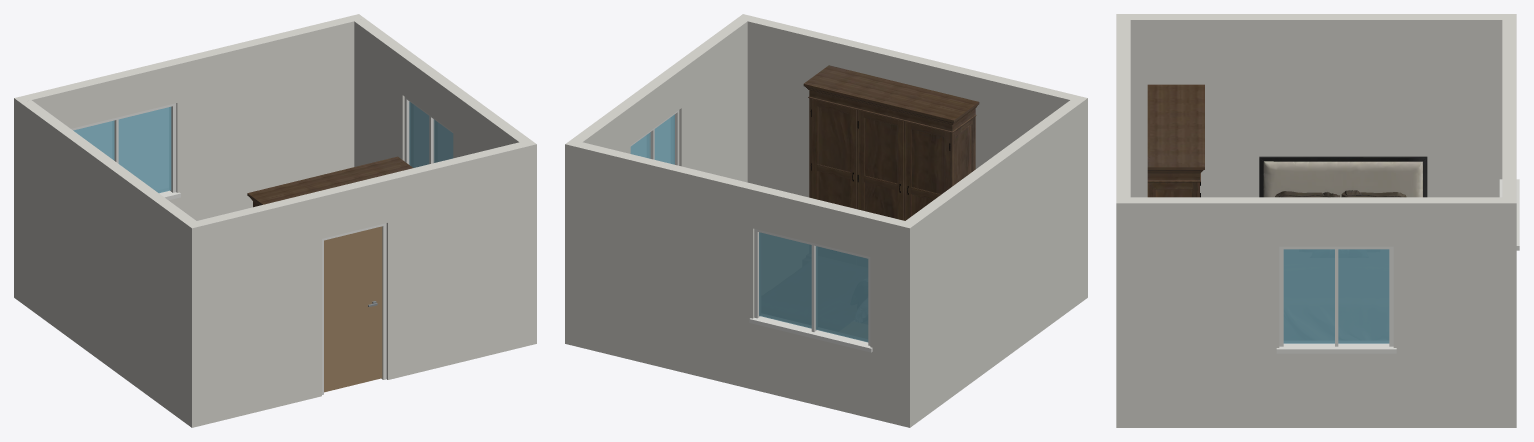
Rendered from instructscene.glb.
3 views of the same model, side by side, from view 1: azimuth 30°, elevation 25°; view 2: azimuth 150°, elevation 25°; view 3: azimuth 270°, elevation 25° (orthographic). The views are drawn at different scales.
Parts seen in each view (by area): view 1: wall|scenesmith_020__R00|0, wall|scenesmith_020__R00|2, wall|scenesmith_020__R00|1, wall|scenesmith_020__R00|3, wall|scenesmith_020__R00|0 Door 0 | wood leaf, wall|scenesmith_020__R00|1 Window 0 | glazing, raw_model.001, wall|scenesmith_020__R00|3 Window 0 | glazing, wall|scenesmith_020__R00|0 Door 0 | jamb, wall|scenesmith_020__R00|1 Window 0 | jamb, wall|scenesmith_020__R00|3 Window 0 | jamb; view 2: wall|scenesmith_020__R00|1, wall|scenesmith_020__R00|2, wall|scenesmith_020__R00|0, raw_model.001, wall|scenesmith_020__R00|3, wall|scenesmith_020__R00|1 Window 0 | glazing, wall|scenesmith_020__R00|1 Window 0 | jamb, wall|scenesmith_020__R00|3 Window 0 | glazing, wall|scenesmith_020__R00|3 Window 0 | jamb; view 3: wall|scenesmith_020__R00|3, wall|scenesmith_020__R00|2, wall|scenesmith_020__R00|3 Window 0 | glazing, raw_model, raw_model.001, wall|scenesmith_020__R00|1, wall|scenesmith_020__R00|0, wall|scenesmith_020__R00|3 Window 0 | jamb.
Boxes of the visible parts, x1,y1,x2,y2 form: wall|scenesmith_020__R00|0: (192, 142, 525, 427); wall|scenesmith_020__R00|2: (20, 100, 202, 427); wall|scenesmith_020__R00|1: (14, 14, 364, 301); wall|scenesmith_020__R00|3: (354, 18, 536, 346); wall|scenesmith_020__R00|0 Door 0 | wood leaf: (324, 226, 382, 392); wall|scenesmith_020__R00|1 Window 0 | glazing: (73, 106, 171, 193); raw_model.001: (247, 156, 412, 207); wall|scenesmith_020__R00|3 Window 0 | glazing: (409, 101, 453, 167); wall|scenesmith_020__R00|0 Door 0 | jamb: (322, 223, 386, 394); wall|scenesmith_020__R00|1 Window 0 | jamb: (71, 103, 180, 200); wall|scenesmith_020__R00|3 Window 0 | jamb: (404, 97, 453, 164); wall|scenesmith_020__R00|1: (565, 139, 916, 427); wall|scenesmith_020__R00|2: (899, 95, 1087, 427); wall|scenesmith_020__R00|0: (747, 16, 1076, 197); raw_model.001: (803, 65, 979, 220); wall|scenesmith_020__R00|3: (565, 14, 753, 346); wall|scenesmith_020__R00|1 Window 0 | glazing: (759, 232, 868, 342); wall|scenesmith_020__R00|1 Window 0 | jamb: (749, 229, 872, 352); wall|scenesmith_020__R00|3 Window 0 | glazing: (630, 114, 674, 164); wall|scenesmith_020__R00|3 Window 0 | jamb: (630, 110, 679, 165); wall|scenesmith_020__R00|3: (1116, 197, 1502, 427); wall|scenesmith_020__R00|2: (1116, 14, 1502, 197); wall|scenesmith_020__R00|3 Window 0 | glazing: (1283, 249, 1389, 343); raw_model: (1259, 156, 1427, 197); raw_model.001: (1147, 84, 1204, 197); wall|scenesmith_020__R00|1: (1502, 14, 1516, 427); wall|scenesmith_020__R00|0: (1116, 20, 1130, 427); wall|scenesmith_020__R00|3 Window 0 | jamb: (1276, 246, 1396, 353).
Bounding box in the file's own units: 4.73 × 2.61 × 4.23.
9 materials, 3 textured.
